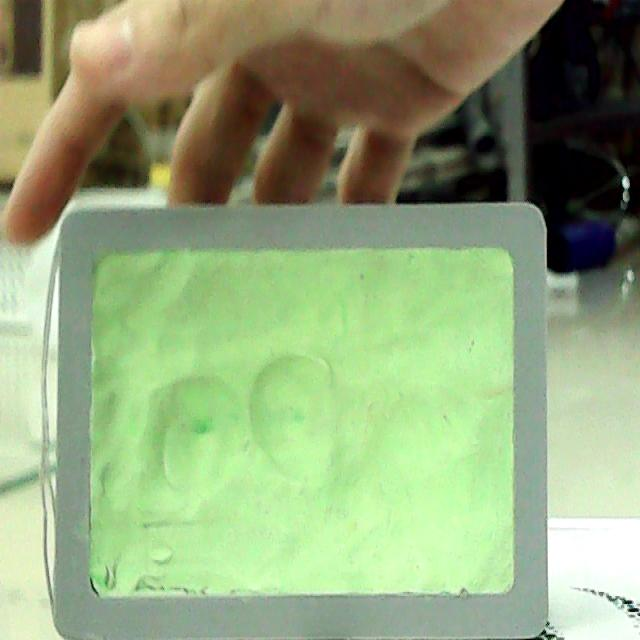block: (47, 204, 545, 636)
